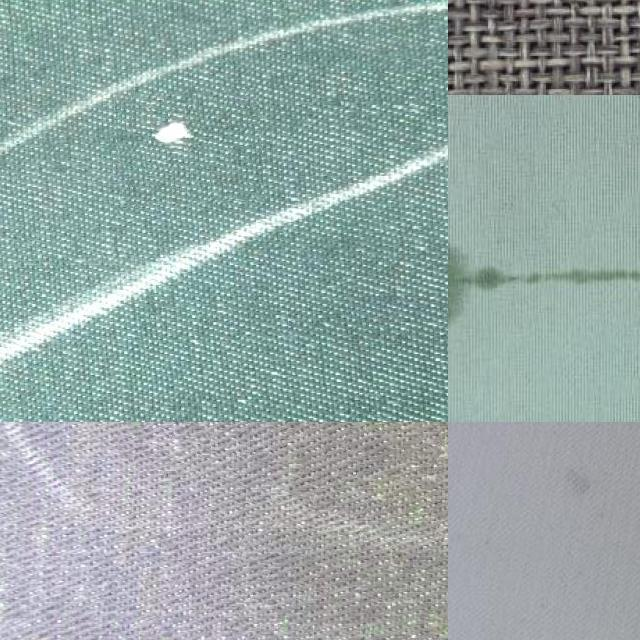Hole: (448, 178, 640, 366)
Thread_other: (116, 88, 264, 204), (111, 422, 439, 466)
